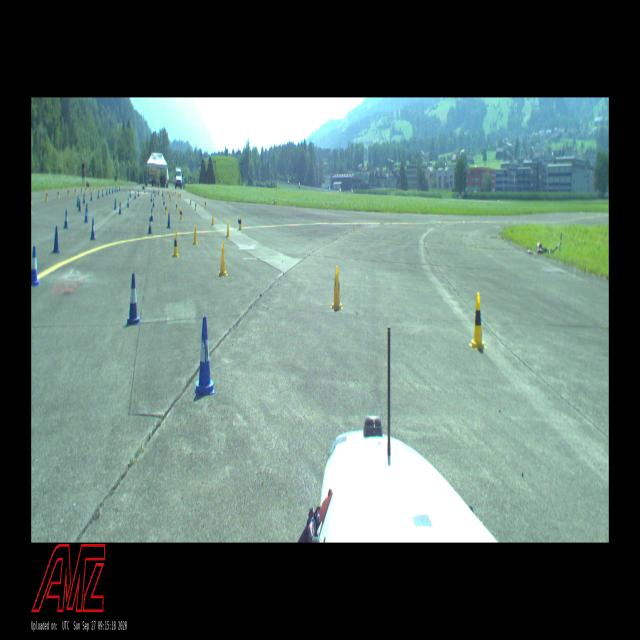blue_cone: (195, 314, 215, 396), (126, 273, 141, 326), (31, 246, 42, 286), (52, 224, 61, 254), (90, 218, 96, 241), (63, 210, 69, 230), (147, 216, 152, 235), (84, 205, 88, 224), (78, 198, 82, 213), (118, 202, 122, 215), (150, 208, 154, 221), (167, 213, 170, 229), (76, 196, 80, 208), (126, 197, 130, 208), (113, 199, 117, 210), (90, 192, 93, 201), (83, 193, 85, 204), (98, 190, 100, 200), (152, 198, 154, 207), (150, 194, 152, 203), (134, 191, 136, 200), (138, 189, 140, 198), (102, 188, 104, 197), (163, 196, 165, 205), (106, 188, 108, 195), (112, 187, 114, 194), (130, 190, 131, 198), (109, 188, 110, 195)
yellow_cone: (469, 293, 487, 350), (330, 266, 343, 311), (218, 242, 228, 278), (172, 232, 179, 259), (192, 224, 198, 246), (226, 219, 230, 238), (238, 215, 242, 231), (211, 212, 215, 225), (180, 207, 183, 220), (165, 203, 168, 216), (175, 202, 178, 213), (204, 200, 207, 209), (195, 200, 197, 211), (190, 197, 192, 206)
